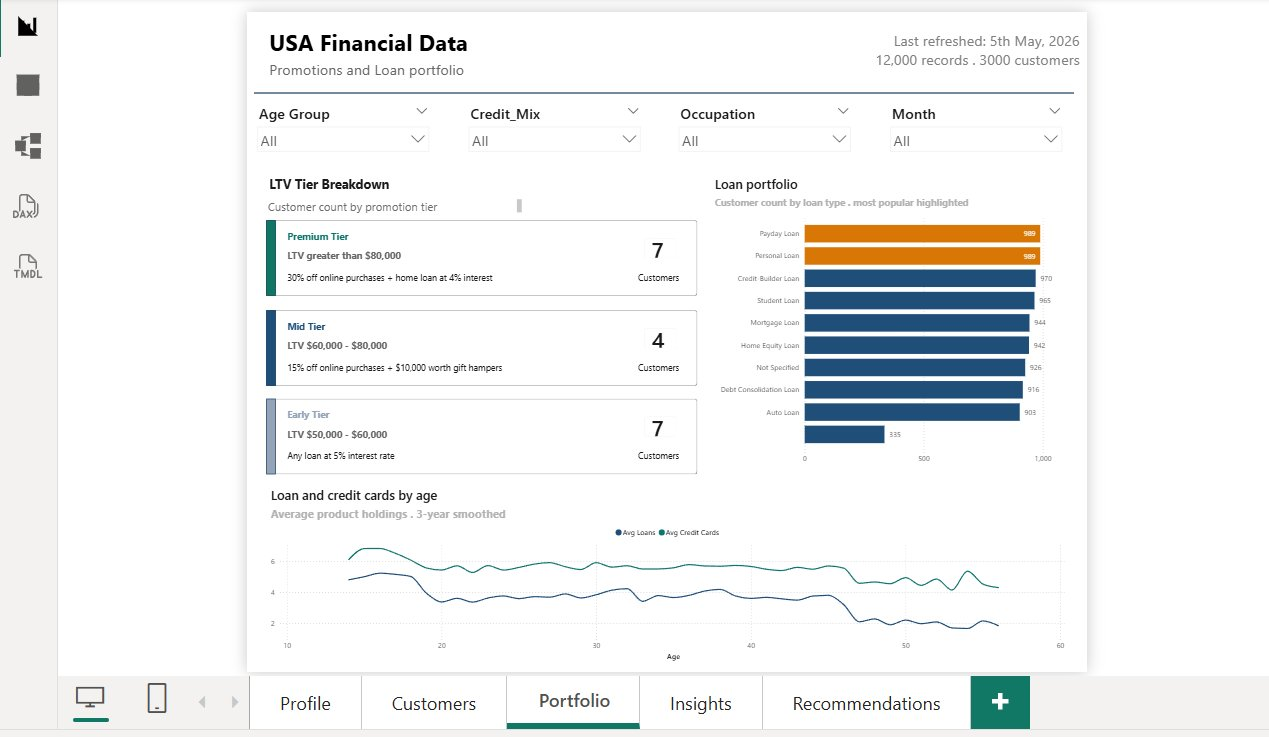

What the dashboard file says about the page in this screenshot:
{"tool":"powerbi","page":{"name":"Portfolio","canvas":[1400,1100],"ordinal":2},"visuals":[{"type":"group","id":"g1","title":"Group 3","box":[0,0,1400,152.5],"z":0},{"type":"textbox","box":[25,12.5,597.5,80],"z":0,"group":"g1"},{"type":"shape","box":[19.8,335.4,742.5,150],"z":0,"group":"g2"},{"type":"shape","box":[19.8,484.5,742.5,150],"z":0,"group":"g3"},{"type":"shape","box":[19.8,633.6,742.5,150],"z":0,"group":"g4"},{"type":"textbox","box":[25,67.5,447.5,57.5],"z":1000,"group":"g1"},{"type":"slicer","fields":{"Values":["combined_df.Age Groups"]},"box":[0,140.3,320,120],"z":1000},{"type":"shape","box":[19.8,335.4,40,150],"z":1000,"group":"g2"},{"type":"shape","box":[19.8,484.5,40,150],"z":1000,"group":"g3"},{"type":"shape","box":[19.8,633.6,40,150],"z":1000,"group":"g4"},{"type":"textbox","box":[1017.5,0,382.5,122.5],"z":2000,"group":"g1"},{"type":"slicer","fields":{"Values":["combined_df.Credit_Mix"]},"box":[351.7,140.3,320,120],"z":2000},{"type":"textbox","box":[54.8,350.4,200,55],"z":2000,"group":"g2"},{"type":"textbox","box":[54.8,499.5,200,55],"z":2000,"group":"g3"},{"type":"textbox","box":[54.8,648.6,200,55],"z":2000,"group":"g4"},{"type":"shape","box":[0,117.5,1390,35],"z":3000,"group":"g1"},{"type":"slicer","fields":{"Values":["combined_df.Occupation"]},"box":[703.3,140.3,320,120],"z":3000},{"type":"textbox","box":[54.8,382.9,237.5,55],"z":3000,"group":"g2"},{"type":"textbox","box":[54.8,532,237.5,55],"z":3000,"group":"g3"},{"type":"textbox","box":[54.8,681.1,237.5,55],"z":3000,"group":"g4"},{"type":"slicer","fields":{"Values":["combined_df.Month"]},"box":[1055,140.3,320,120],"z":4000},{"type":"textbox","box":[54.8,420.4,427.5,47.5],"z":4000,"group":"g2"},{"type":"textbox","box":[54.8,569.5,427.5,47.5],"z":4000,"group":"g3"},{"type":"textbox","box":[54.8,718.6,427.5,47.5],"z":4000,"group":"g4"},{"type":"textbox","box":[25,260,320,65],"z":5000},{"type":"cardVisual","fields":{"Data":["Table.Premium Tier Count"]},"box":[637.3,352.9,102.5,82.5],"z":5000,"group":"g2"},{"type":"cardVisual","fields":{"Data":["Table.Mid Tier Count"]},"box":[637.3,502,102.5,82.5],"z":5000,"group":"g3"},{"type":"cardVisual","fields":{"Data":["Table.Entry Tier Count"]},"box":[637.3,651.1,102.5,82.5],"z":5000,"group":"g4"},{"type":"textbox","box":[22.5,300,447.5,47.5],"z":6000},{"type":"textbox","box":[597.3,420.4,135,45],"z":6000,"group":"g2"},{"type":"textbox","box":[597.3,569.5,135,45],"z":6000,"group":"g3"},{"type":"textbox","box":[597.3,718.6,135,45],"z":6000,"group":"g4"},{"type":"group","id":"g2","title":"Group 1","box":[19.8,335.4,742.5,150],"z":7000},{"type":"group","id":"g3","title":"Group 1","box":[19.8,484.5,742.5,150],"z":8000},{"type":"group","id":"g4","title":"Group 1","box":[19.8,633.6,742.5,150],"z":9000},{"type":"clusteredBarChart","title":"Loan portfolio","fields":{"Category":["LoanTypeTable.LoanType"],"Y":["Count(LoanTypeTable.Customer_ID)"]},"box":[767.5,260,607.5,510],"z":10000},{"type":"lineChart","title":"Loan and credit cards by age","fields":{"Category":["combined_df.Age"],"Y":["Table.Avg Loans","Table.Avg Credit Cards"]},"box":[26.7,776.7,1350,316.7],"z":11000}]}

Visuals, with their boxes on the page's 1400x1100 design canvas (x1, y1, x2, y2). These are canvas units, not pixel positions in the 1269x737 screenshot, which may show the page scaled, cropped or inside an application window:
"Group 3" group: l=0, t=0, r=1400, b=152
textbox: l=25, t=12, r=622, b=92
shape: l=20, t=335, r=762, b=485
shape: l=20, t=484, r=762, b=634
shape: l=20, t=634, r=762, b=784
textbox: l=25, t=68, r=472, b=125
slicer - combined_df.Age Groups: l=0, t=140, r=320, b=260
shape: l=20, t=335, r=60, b=485
shape: l=20, t=484, r=60, b=634
shape: l=20, t=634, r=60, b=784
textbox: l=1018, t=0, r=1400, b=122
slicer - combined_df.Credit_Mix: l=352, t=140, r=672, b=260
textbox: l=55, t=350, r=255, b=405
textbox: l=55, t=500, r=255, b=554
textbox: l=55, t=649, r=255, b=704
shape: l=0, t=118, r=1390, b=152
slicer - combined_df.Occupation: l=703, t=140, r=1023, b=260
textbox: l=55, t=383, r=292, b=438
textbox: l=55, t=532, r=292, b=587
textbox: l=55, t=681, r=292, b=736
slicer - combined_df.Month: l=1055, t=140, r=1375, b=260
textbox: l=55, t=420, r=482, b=468
textbox: l=55, t=570, r=482, b=617
textbox: l=55, t=719, r=482, b=766
textbox: l=25, t=260, r=345, b=325
cardVisual - Table.Premium Tier Count: l=637, t=353, r=740, b=435
cardVisual - Table.Mid Tier Count: l=637, t=502, r=740, b=584
cardVisual - Table.Entry Tier Count: l=637, t=651, r=740, b=734
textbox: l=22, t=300, r=470, b=348
textbox: l=597, t=420, r=732, b=465
textbox: l=597, t=570, r=732, b=614
textbox: l=597, t=719, r=732, b=764
"Group 1" group: l=20, t=335, r=762, b=485
"Group 1" group: l=20, t=484, r=762, b=634
"Group 1" group: l=20, t=634, r=762, b=784
"Loan portfolio" clusteredBarChart: l=768, t=260, r=1375, b=770
"Loan and credit cards by age" lineChart: l=27, t=777, r=1377, b=1093
